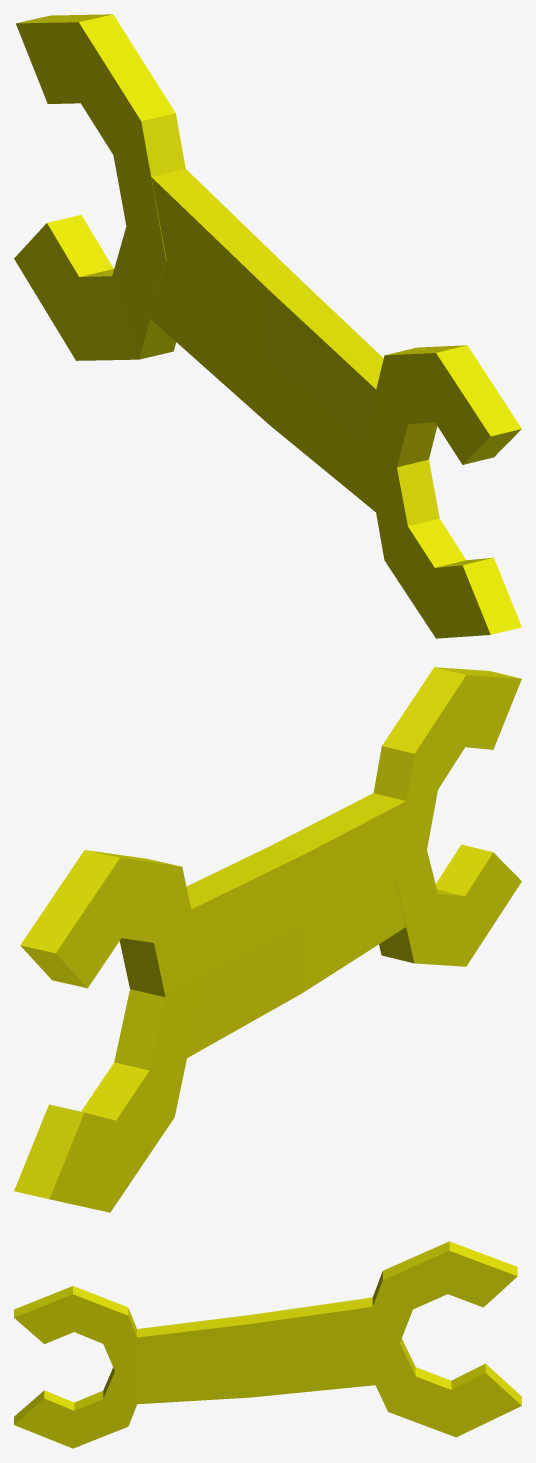
File: Tool_04.fbx
The picture shows the model from 3 angles, top to bottom: view 1: azimuth 30°, elevation 25°; view 2: azimuth 150°, elevation 25°; view 3: azimuth 270°, elevation 25°; orthographic projection. The views are drawn at different scales.
Parts seen in each view (by area): view 1: Wranch; view 2: Wranch; view 3: Wranch.
Part boxes in pixels (x1=…): Wranch: x1=14, y1=14, x2=521, y2=638; Wranch: x1=14, y1=667, x2=521, y2=1212; Wranch: x1=14, y1=1241, x2=521, y2=1448.
Size of the model in its own units: 5.26 by 44.49 by 104.
